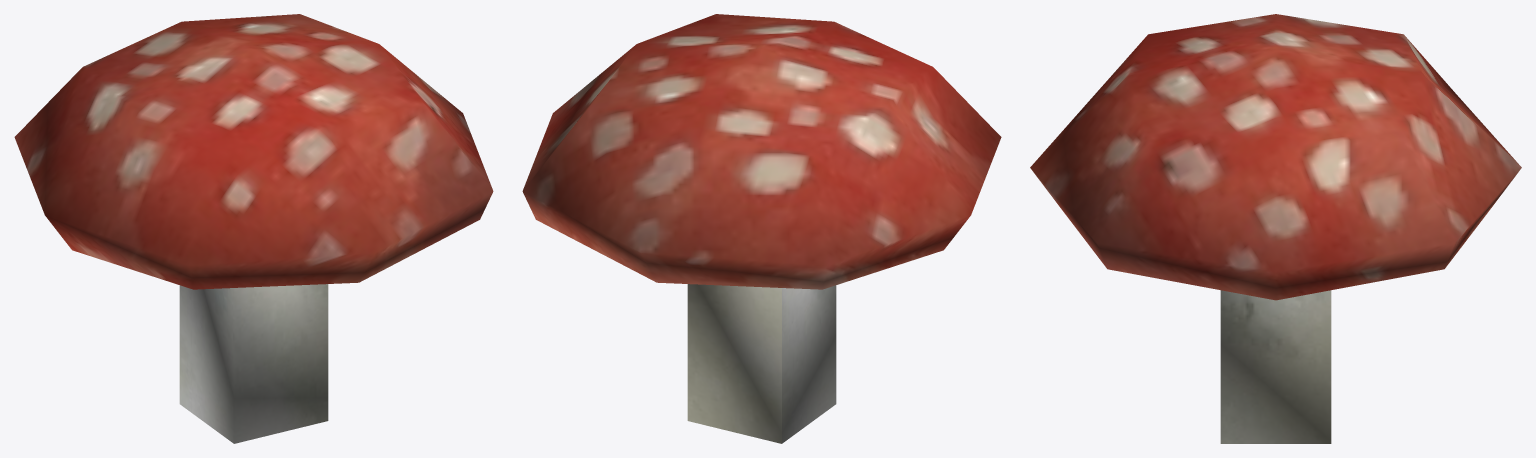
Rendered from CHAMPI.glb.
3 views of the same model, side by side, from view 1: azimuth 30°, elevation 25°; view 2: azimuth 150°, elevation 25°; view 3: azimuth 270°, elevation 25° (orthographic).
Visible parts, largest first — view 1: Cube.004; view 2: Cube.004; view 3: Cube.004.
Boxes of the visible parts, bbox=[...] form: Cube.004: bbox=[14, 14, 493, 443]; Cube.004: bbox=[522, 14, 1001, 443]; Cube.004: bbox=[1030, 14, 1521, 443].
Bounding box in the file's own units: 1.17 × 0.9737 × 1.17.
1 material, 1 textured.
